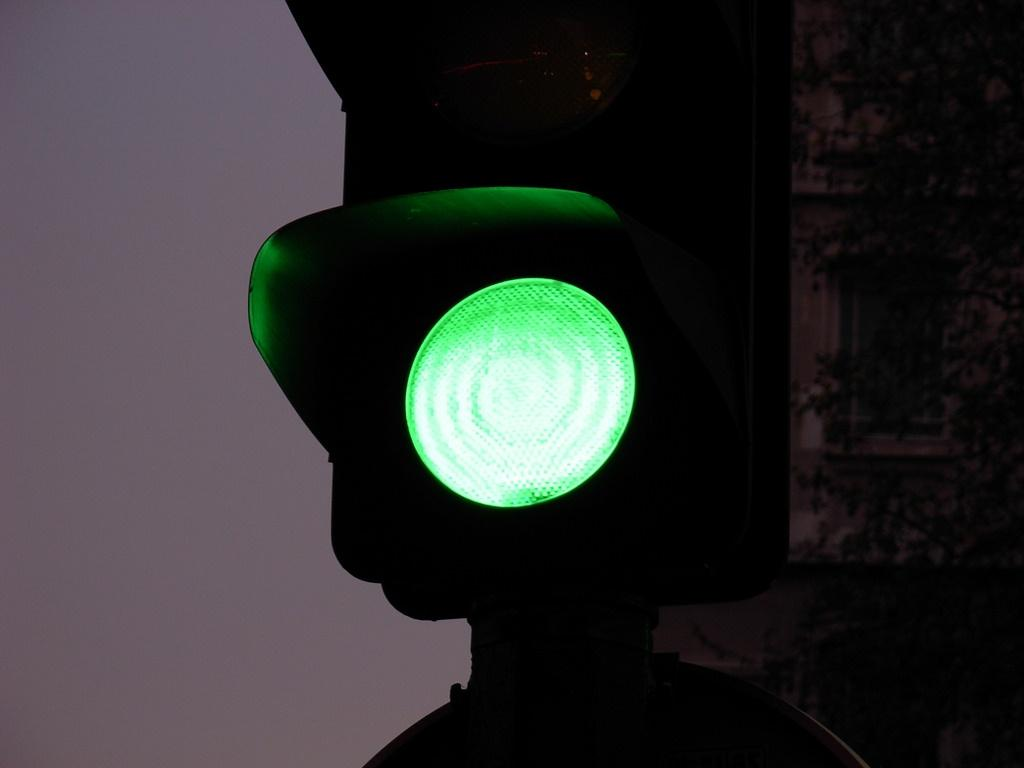Traffic light green: (252, 0, 794, 602)
